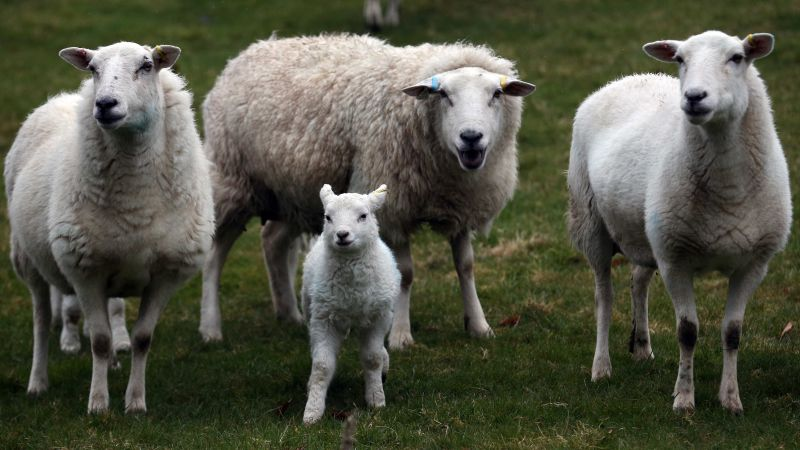sheep: (1, 4, 206, 425), (571, 27, 783, 400), (214, 25, 547, 239), (304, 180, 409, 413)
